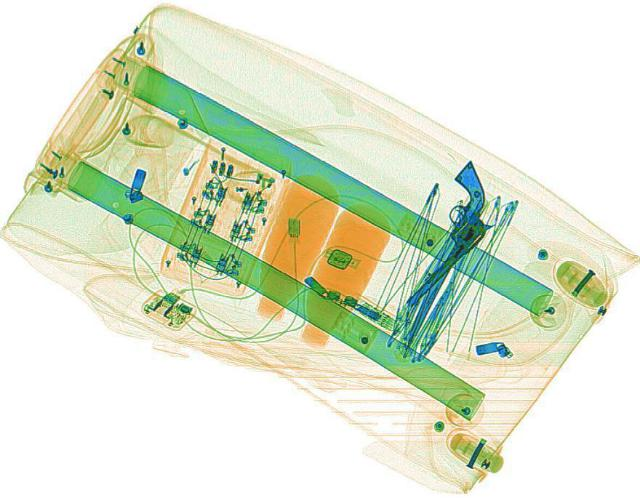Gun: (360, 158, 528, 306)
